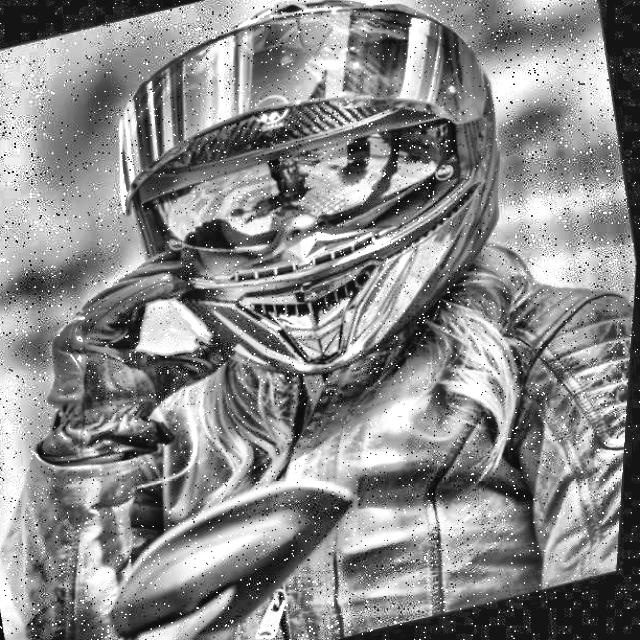Helmet: (69, 0, 572, 434)
